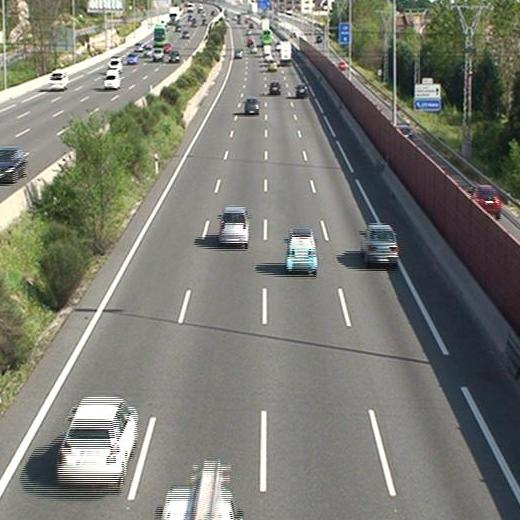car: (57, 398, 136, 482), (361, 225, 397, 265), (286, 229, 319, 272), (219, 207, 248, 245), (245, 98, 260, 114), (269, 81, 281, 93), (296, 85, 307, 96), (269, 60, 278, 70), (234, 49, 243, 58)
small-truck: (279, 42, 290, 63)
